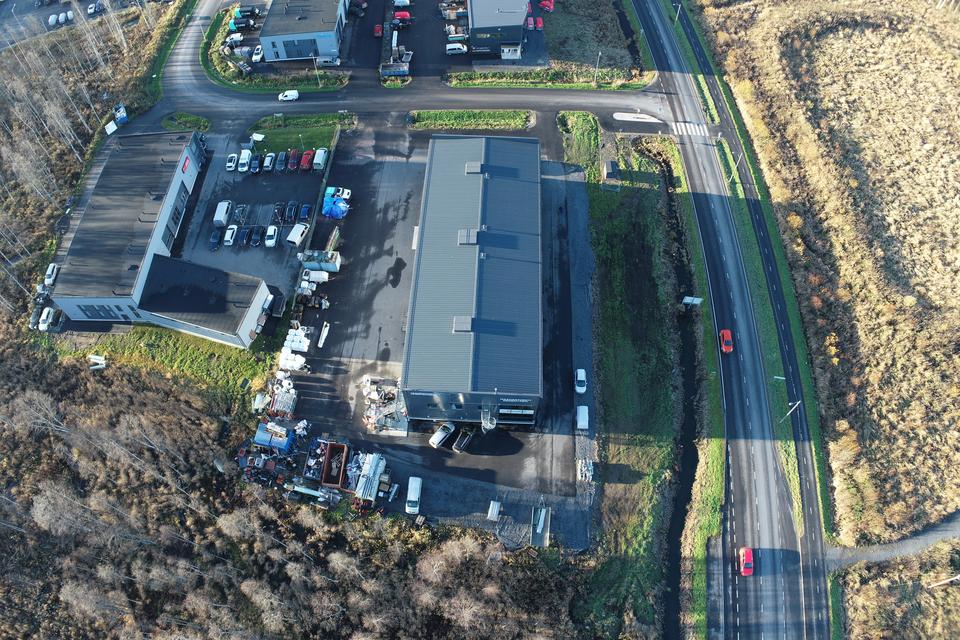intersection: (691, 522, 900, 589), (583, 72, 753, 134)
